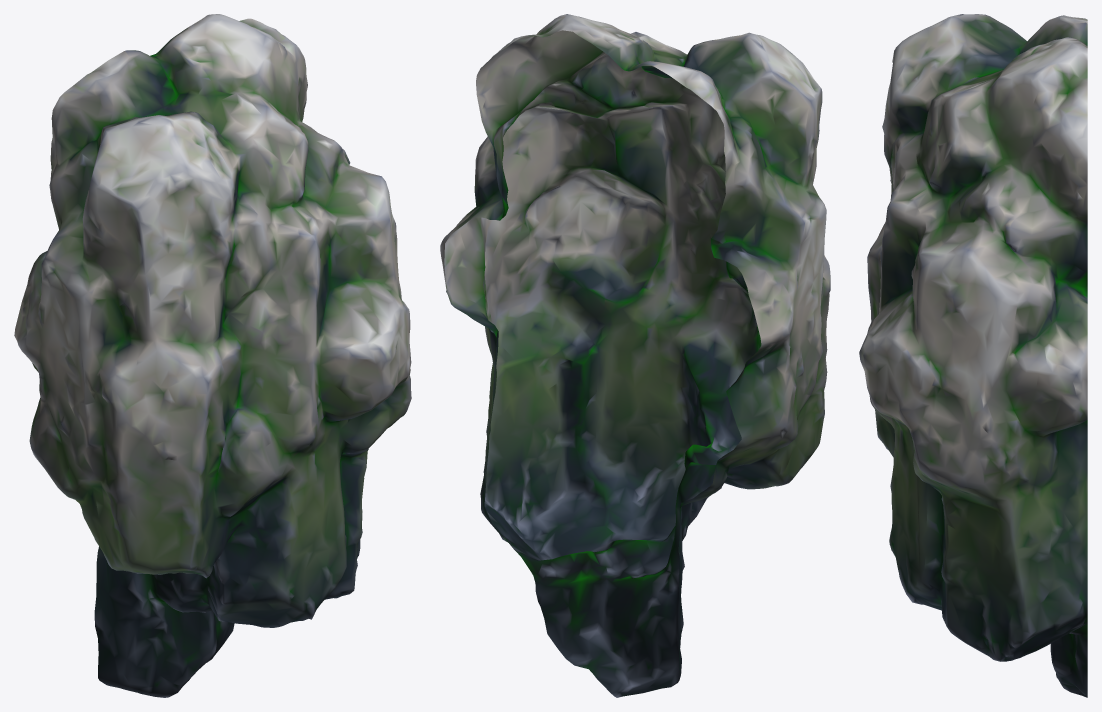
Rendered from M_Cliff_Rock_T10.fbx.
The picture shows the model from 3 angles, left to right: view 1: azimuth 30°, elevation 25°; view 2: azimuth 150°, elevation 25°; view 3: azimuth 270°, elevation 25°; orthographic projection. The views are drawn at different scales.
Visible parts, largest first — view 1: M_Cliff_Rock_T10; view 2: M_Cliff_Rock_T10; view 3: M_Cliff_Rock_T10.
Part boxes in pixels (left/top/right/bottom): M_Cliff_Rock_T10: left=14, top=14, right=411, bottom=697; M_Cliff_Rock_T10: left=440, top=14, right=830, bottom=697; M_Cliff_Rock_T10: left=859, top=14, right=1087, bottom=697.
Size of the model in its own units: 12.3 by 22.91 by 7.04.
